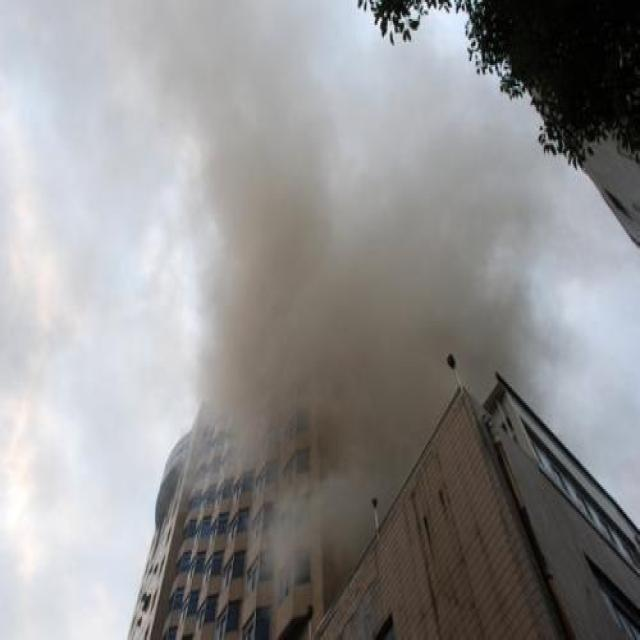Smoke: (110, 2, 618, 602)
